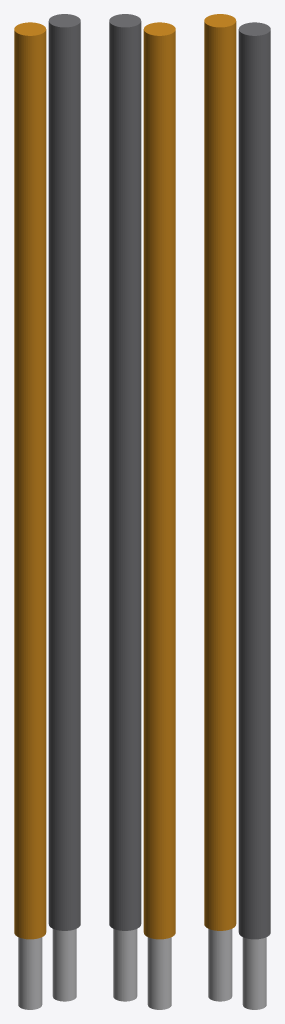
The model's file is ref_cable_24v.glb.
3 views of the same model, side by side, from view 1: azimuth 30°, elevation 25°; view 2: azimuth 150°, elevation 25°; view 3: azimuth 330°, elevation 25° (orthographic).
Visible parts, largest first — view 1: rojo, negro, punteras; view 2: rojo, negro, punteras; view 3: negro, rojo, punteras.
Boxes of the visible parts, left/top/right/bottom form: rojo: left=14, top=22, right=46, bottom=939; negro: left=48, top=14, right=80, bottom=930; punteras: left=18, top=929, right=76, bottom=1009; rojo: left=143, top=22, right=175, bottom=939; negro: left=109, top=14, right=141, bottom=930; punteras: left=113, top=929, right=171, bottom=1009; negro: left=238, top=22, right=270, bottom=939; rojo: left=204, top=14, right=236, bottom=930; punteras: left=208, top=929, right=266, bottom=1009.
Bounding box in the file's own units: 7.2 × 108 × 3.2.
